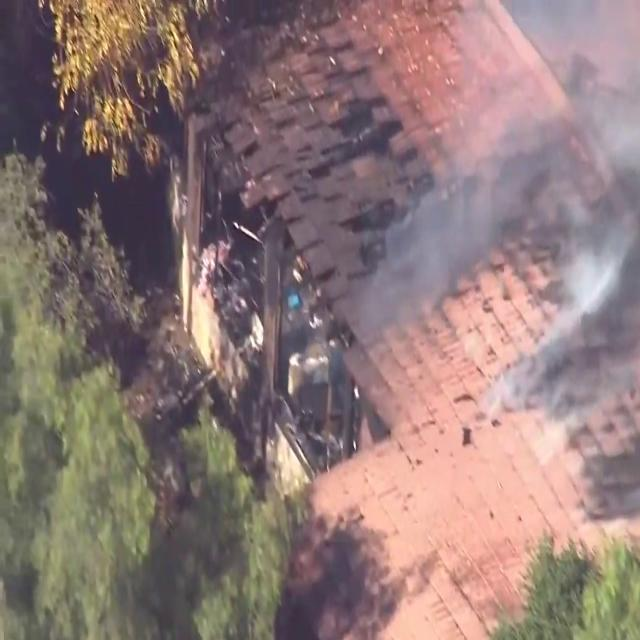Smoke: (347, 2, 639, 356)
